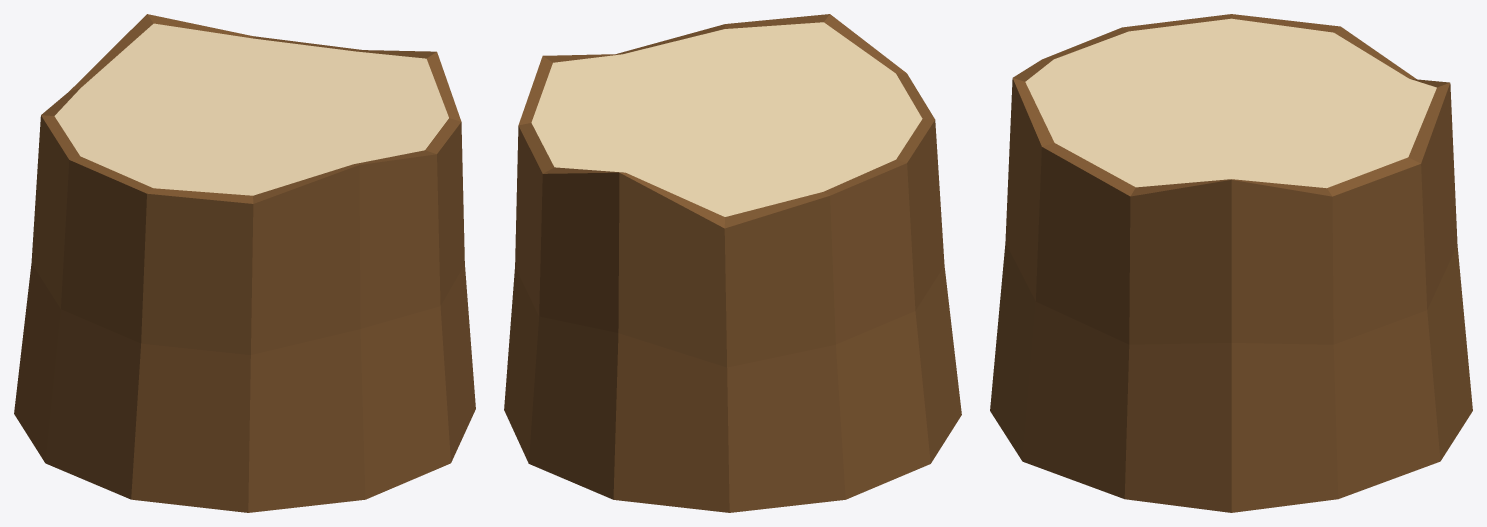
Rendered from Stump.fbx.
3 renders of one model, left to right at view 1: azimuth 30°, elevation 25°; view 2: azimuth 150°, elevation 25°; view 3: azimuth 270°, elevation 25°, orthographic. The views are drawn at different scales.
Visible parts, largest first — view 1: Circle.002; view 2: Circle.002; view 3: Circle.002.
Part boxes in pixels (left/top/right/bottom): Circle.002: left=14, top=14, right=475, bottom=512; Circle.002: left=504, top=14, right=961, bottom=512; Circle.002: left=990, top=14, right=1472, bottom=512.
Size of the model in its own units: 450 by 345 by 450.
